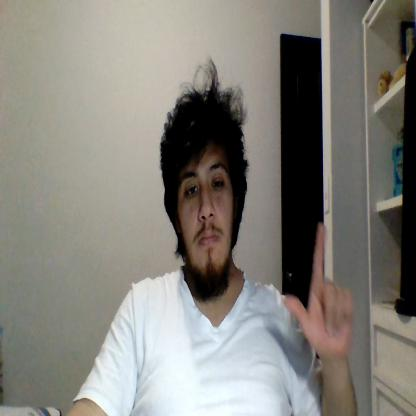L: (284, 223, 354, 359)
